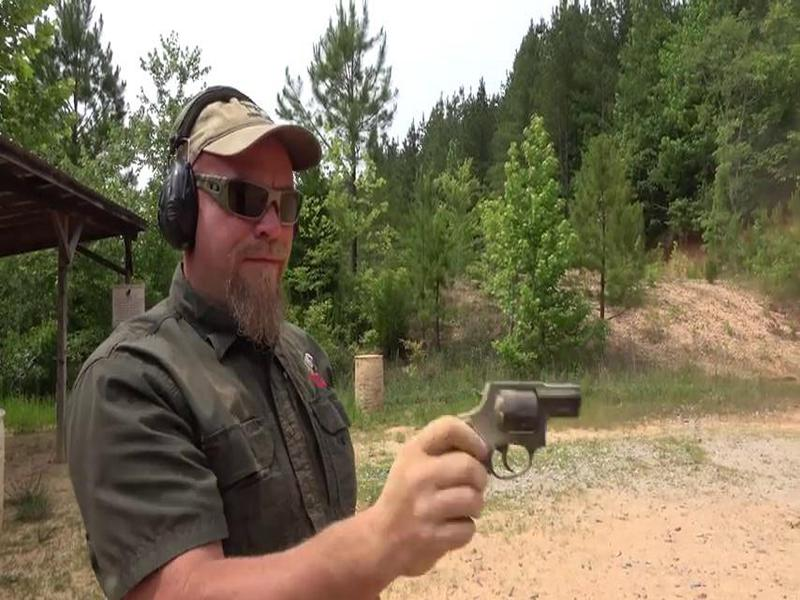Revolver: (423, 333, 600, 516)
